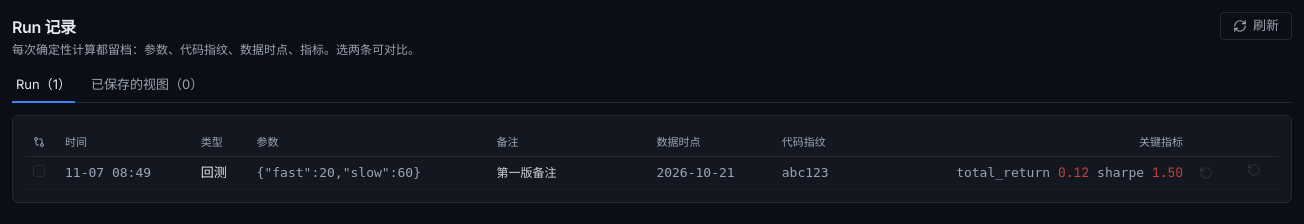
Run 行内备注 › 已有备注的 Run 显示备注内容，可再编辑
This screenshot has width=1304, height=224.
Later steps or results of the test are not shown.
Click the button titled "写备注" at {"x": 526, "y": 173}, box [496, 164, 556, 182]
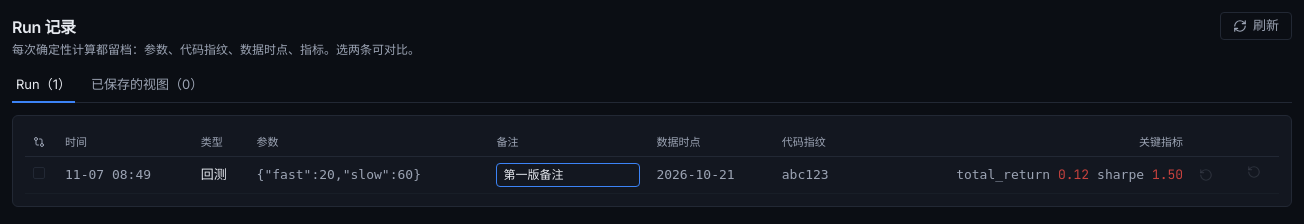
expect the field named "Run 备注" holds "第一版备注": met, box [496, 163, 640, 187]
